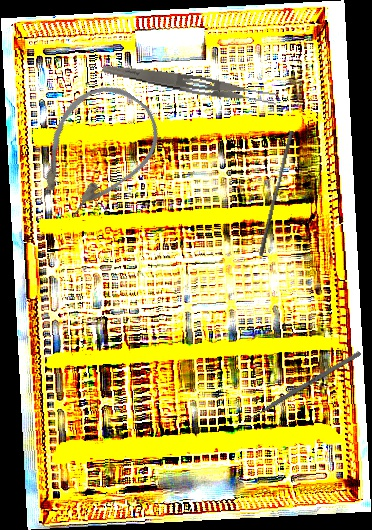Cannula: (17, 69, 174, 233)
Dressing Forceps: (100, 61, 279, 109)
Pusher: (239, 350, 362, 427), (258, 129, 295, 258)
